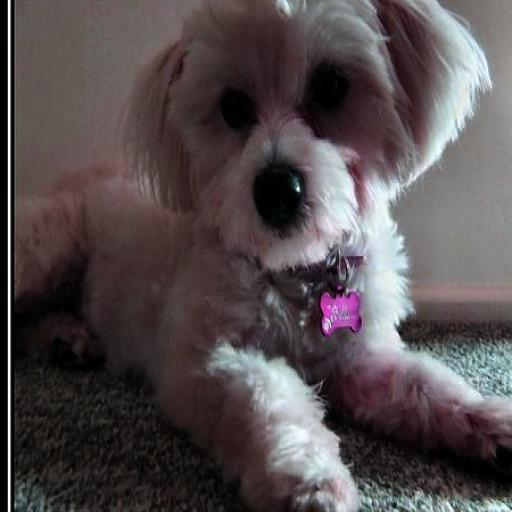dog_face: (126, 0, 470, 255)
